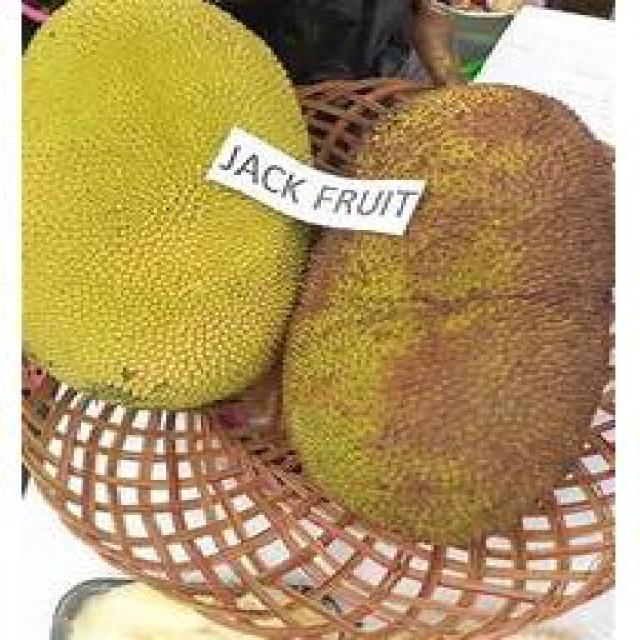Fruit: (255, 152, 628, 578), (3, 155, 329, 433), (30, 567, 264, 640)
